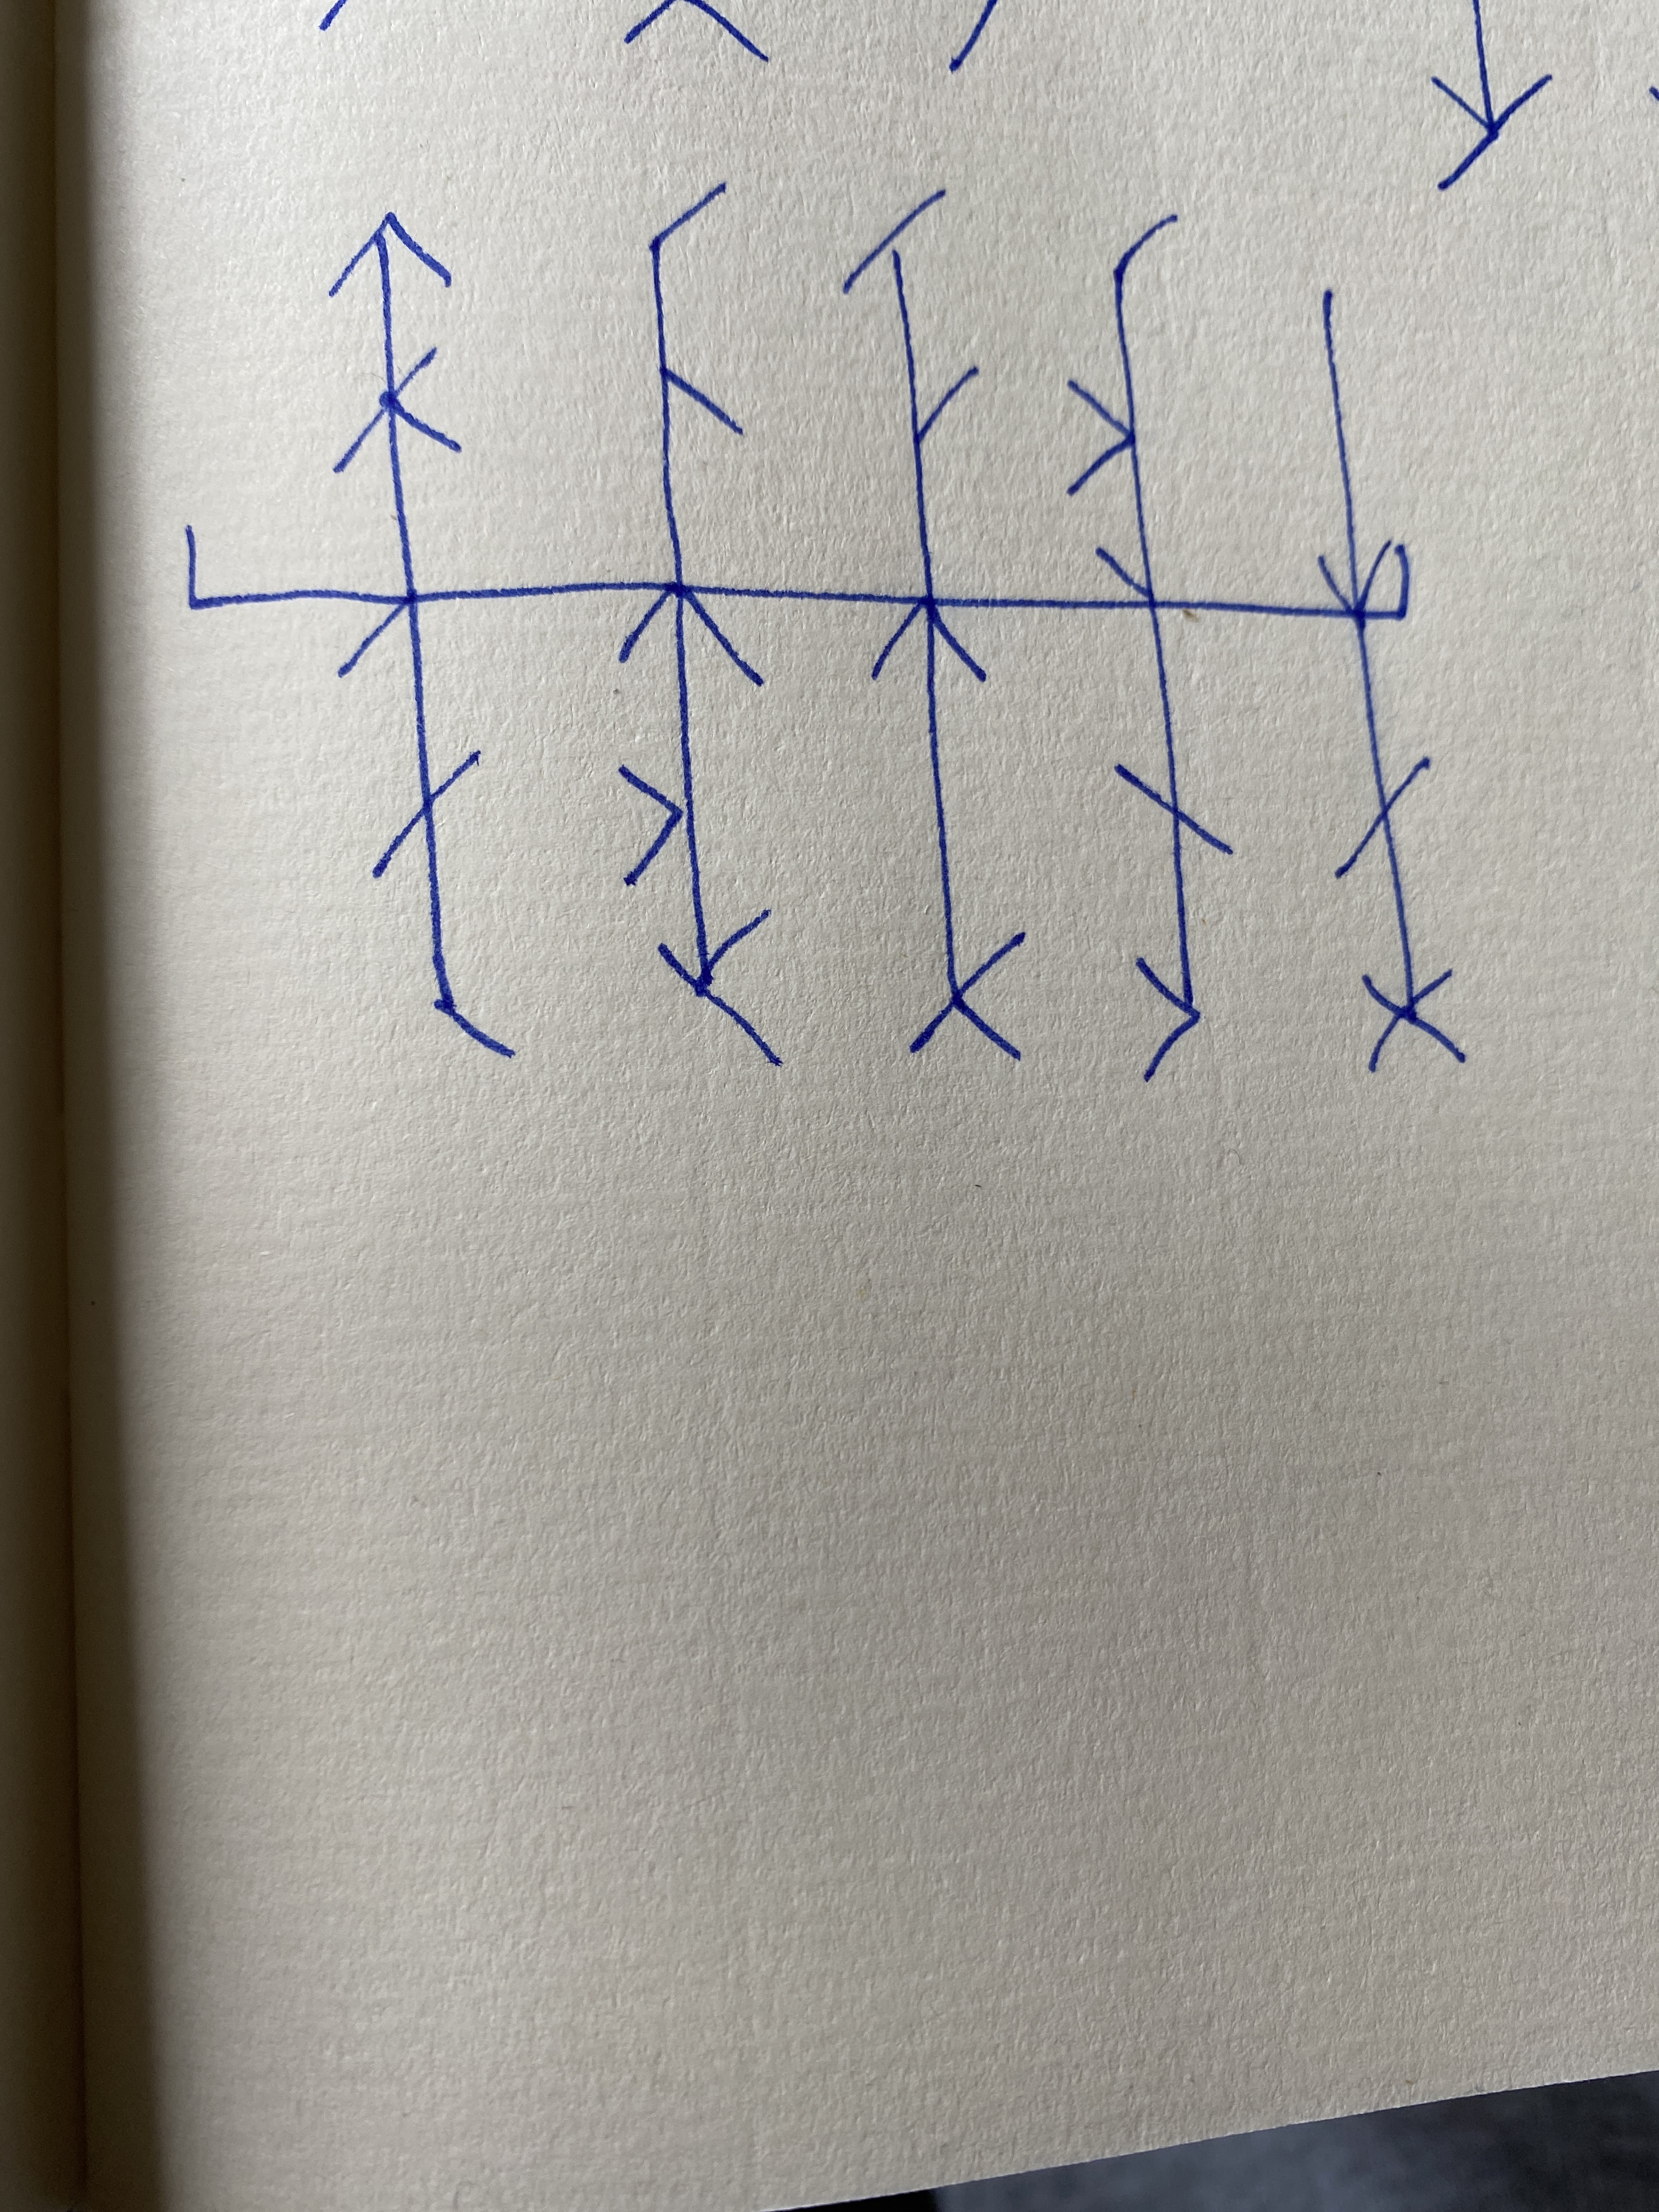Bar: (840, 186, 1026, 1061), (328, 209, 518, 1061), (617, 185, 784, 1073), (1066, 212, 1237, 1082), (1316, 289, 1469, 1073)
Barcode: (185, 183, 1469, 1083)
End: (1385, 542, 1412, 624)
Start: (183, 524, 389, 613)
